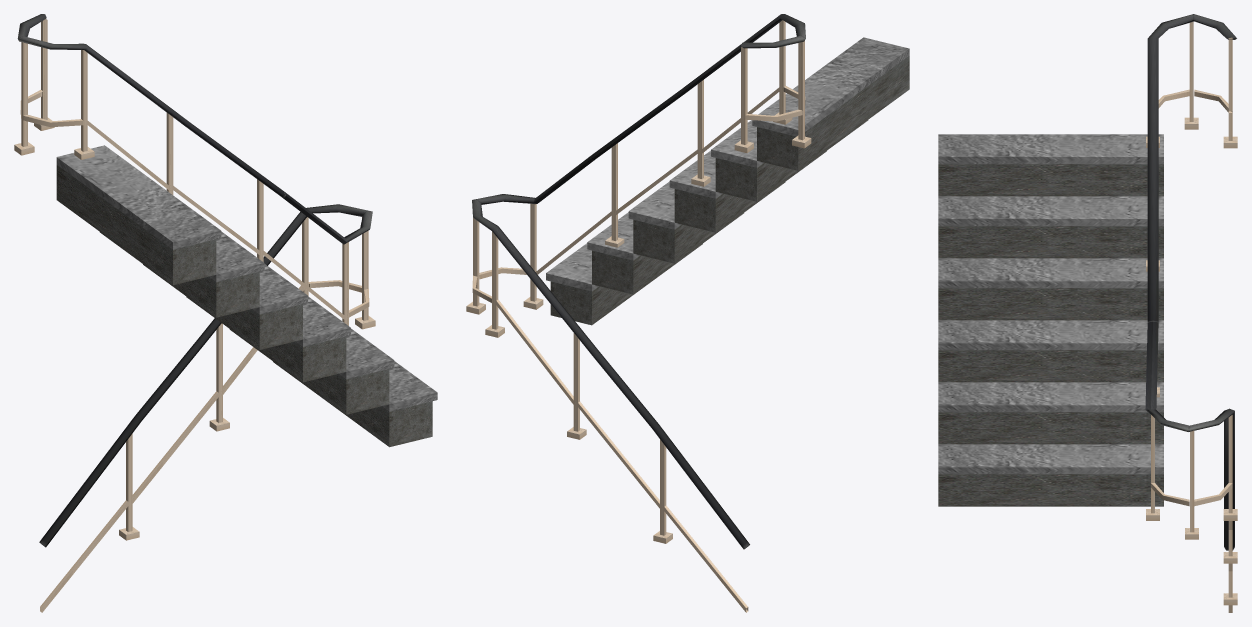
The model's file is stair.FBX.
3 views of the same model, side by side, from view 1: azimuth 30°, elevation 25°; view 2: azimuth 150°, elevation 25°; view 3: azimuth 270°, elevation 25° (orthographic). The views are drawn at different scales.
Parts seen in each view (by area): view 1: Object013, Object010, Object001, Box001, Box004, Box005, Box002, Box006, Box003, Object003, Object012, Object002 (+2 smaller); view 2: Object013, Object010, Object001, Box001, Box002, Box003, Box004, Box005, Box006, Object004, Object012, Object005 (+2 smaller); view 3: Box006, Box005, Box001, Box002, Box003, Box004, Object012, Object010, Object002, Object004, Object003, Object005 (+2 smaller).
Part boxes in pixels (x1,y1,x2,y2): Object013: (14,19,375,612); Object010: (17,14,372,547); Object001: (56,145,221,249); Box001: (56,165,216,285); Box004: (186,296,346,382); Box005: (229,329,389,414); Box002: (100,232,259,317); Box006: (273,361,432,447); Box003: (143,264,302,349); Object003: (252,264,307,314); Object012: (382,361,437,411); Object002: (209,231,264,281); Object013: (466,20,811,612); Object010: (472,14,805,549); Object001: (752,37,909,136); Box001: (757,56,909,170); Box002: (715,120,868,201); Box003: (674,151,826,232); Box004: (633,182,785,263); Box005: (592,213,743,294); Box006: (550,243,702,325); Object004: (628,181,681,229); Object012: (546,243,598,291); Object005: (587,212,639,260); Box006: (938,474,1163,506); Box005: (938,412,1163,444); Box001: (938,164,1163,196); Box002: (938,226,1163,258); Box003: (938,288,1163,320); Box004: (938,350,1163,382); Object012: (938,444,1163,474); Object010: (1145,14,1236,550); Object002: (938,196,1163,226); Object004: (938,320,1163,350); Object003: (938,258,1163,288); Object005: (938,382,1163,412).
Bounding box in the file's own units: 709 × 1146 × 536.
4 materials, 4 textured.
